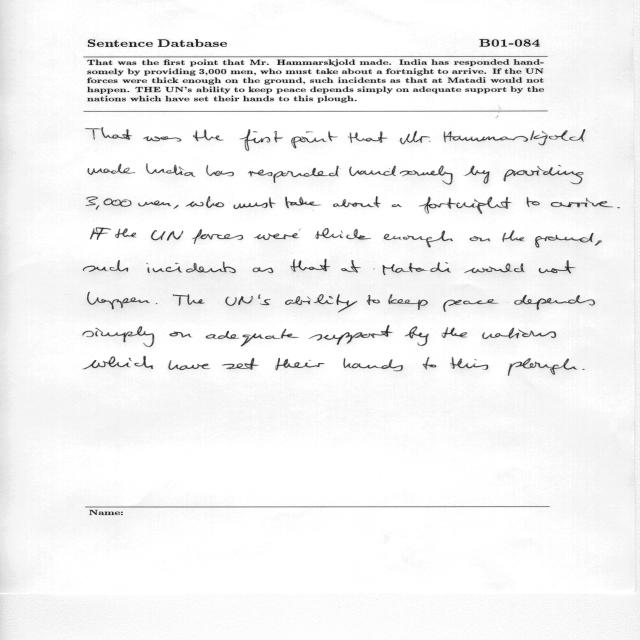word: (444, 129, 585, 145), (349, 166, 453, 185), (309, 325, 393, 345), (248, 165, 339, 183), (419, 197, 511, 214), (206, 329, 298, 346), (504, 165, 584, 184), (83, 326, 154, 347), (285, 294, 357, 312), (508, 358, 577, 376), (514, 295, 595, 310), (383, 231, 453, 248), (87, 293, 150, 310), (373, 262, 451, 275), (146, 262, 236, 273), (239, 129, 283, 151), (83, 356, 153, 369), (535, 233, 594, 248), (482, 328, 556, 339), (292, 132, 338, 149), (343, 358, 403, 371), (192, 229, 243, 244), (443, 299, 499, 312), (316, 228, 372, 240), (388, 294, 428, 310), (464, 263, 525, 273), (86, 127, 132, 140), (86, 197, 132, 210), (276, 358, 325, 370), (551, 198, 613, 207), (84, 260, 129, 272), (226, 294, 271, 306), (333, 197, 381, 208), (291, 259, 331, 272), (88, 164, 135, 175), (254, 229, 301, 240), (233, 197, 276, 209), (539, 260, 575, 274), (404, 326, 429, 346), (451, 357, 488, 370), (348, 131, 387, 143), (185, 196, 224, 208), (465, 166, 490, 184), (222, 358, 259, 370), (168, 360, 210, 370), (146, 164, 183, 175), (286, 197, 322, 208), (172, 294, 205, 306), (400, 131, 430, 144), (151, 230, 183, 241), (193, 130, 224, 141), (206, 166, 234, 177), (441, 327, 467, 338), (503, 230, 525, 242), (341, 260, 361, 273), (91, 228, 111, 240), (144, 136, 182, 142), (115, 229, 136, 239), (138, 201, 172, 207), (179, 166, 196, 177), (423, 357, 436, 370), (526, 197, 540, 207), (169, 332, 192, 338), (367, 295, 380, 305), (253, 267, 274, 273), (470, 236, 491, 241), (595, 241, 602, 246), (392, 204, 402, 207), (174, 205, 179, 209), (617, 207, 620, 208), (582, 369, 585, 370), (156, 303, 158, 304)
